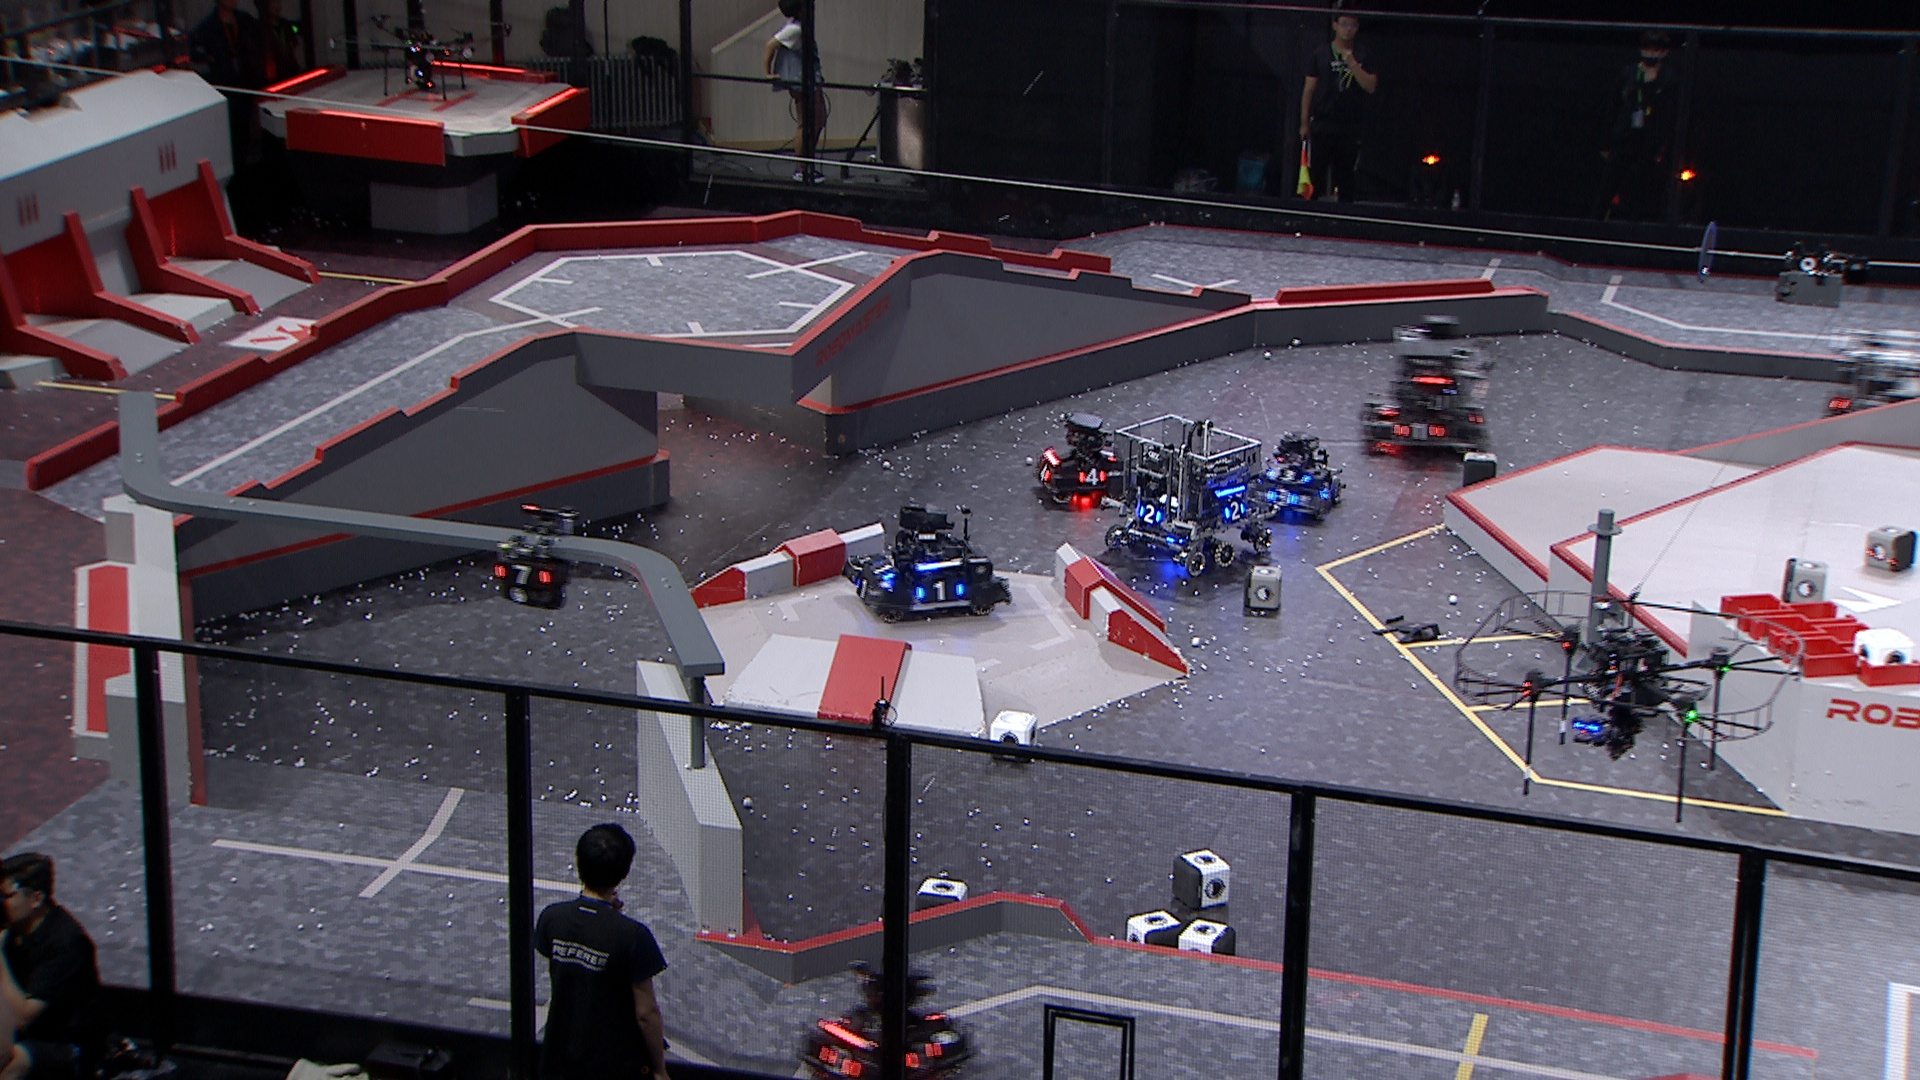armor: (814, 1040, 862, 1077), (495, 562, 556, 588), (913, 578, 967, 604), (905, 1038, 944, 1072), (1394, 419, 1447, 443), (1267, 467, 1313, 485), (1267, 488, 1302, 510), (1077, 465, 1106, 488), (1138, 501, 1166, 524), (872, 560, 897, 583), (1373, 398, 1399, 419), (855, 575, 874, 603), (1222, 500, 1247, 520), (1034, 462, 1054, 484), (1316, 481, 1335, 504), (1097, 446, 1117, 465)
car: (1101, 413, 1275, 575), (793, 956, 982, 1080), (837, 501, 1011, 622), (1358, 322, 1493, 463), (1818, 324, 1920, 451), (1027, 413, 1129, 509), (1249, 429, 1344, 524)
watcher: (487, 501, 578, 609)
